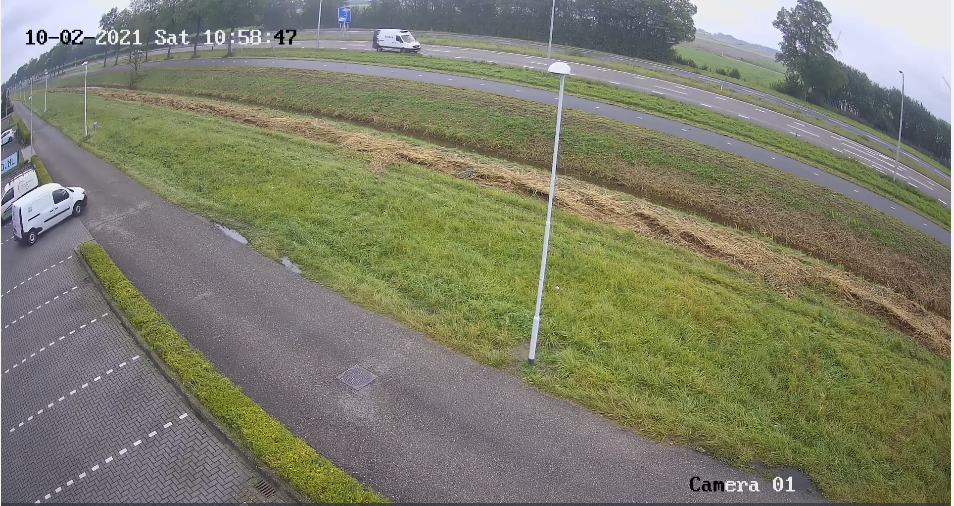werkbus: (7, 175, 89, 254), (1, 162, 38, 225), (366, 22, 423, 61)
